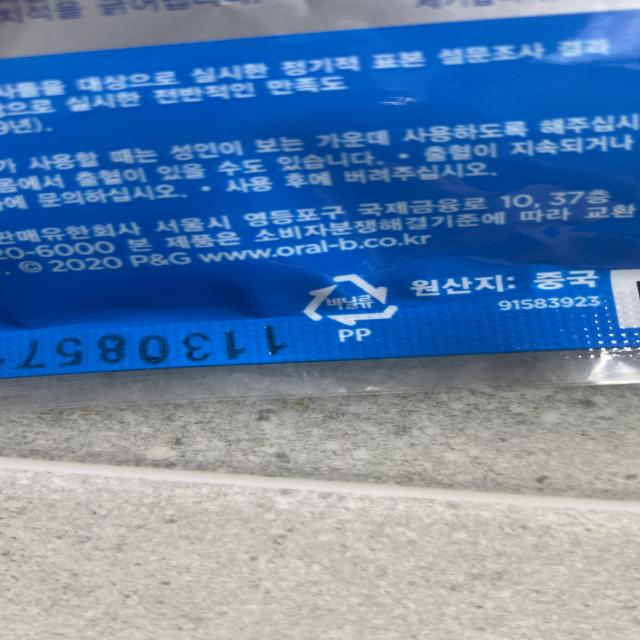Vinyl: (289, 267, 402, 330)
